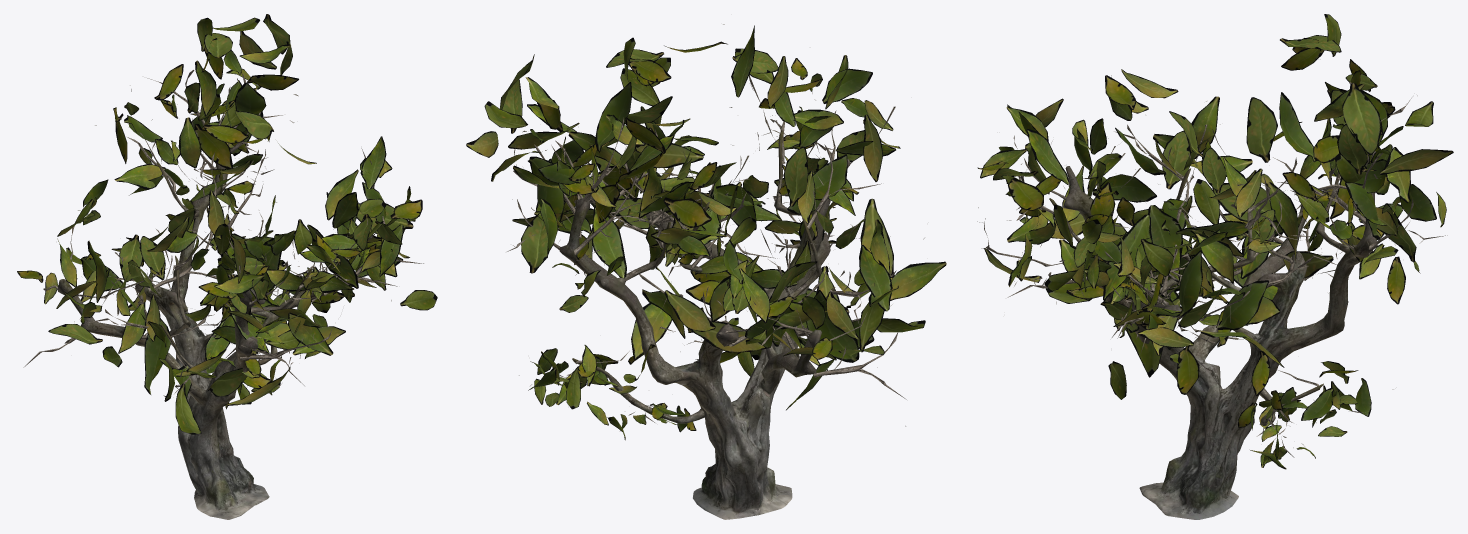
The picture shows the model from 3 angles, left to right: view 1: azimuth 30°, elevation 25°; view 2: azimuth 150°, elevation 25°; view 3: azimuth 270°, elevation 25°; orthographic projection. The views are drawn at different scales.
Parts seen in each view (by area): view 1: island_tree_01_LOD0; view 2: island_tree_01_LOD0; view 3: island_tree_01_LOD0.
Boxes of the visible parts, x1,y1,x2,y2 form: island_tree_01_LOD0: (17,14,437,519); island_tree_01_LOD0: (466,24,946,519); island_tree_01_LOD0: (977,14,1453,519).
Bounding box in the file's own units: 4.44 × 5.08 × 4.35.
3 materials, 3 textured.
